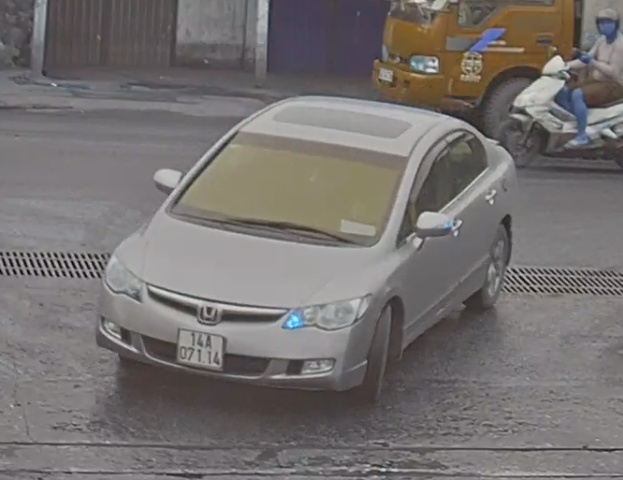vehicle plate: (175, 326, 225, 374)
